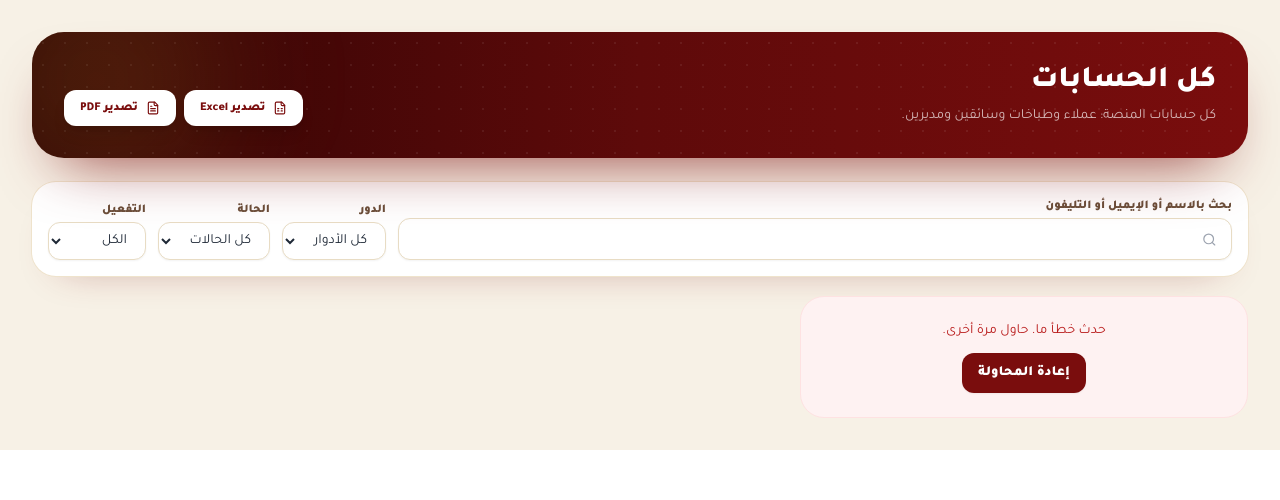
Users Management (provisional /admin/users*) › an offline first load shows a screen error + Retry
expect the text "حدث خطأ ما. حاول مرة أخرى." is shown: met, box [942,324,1106,338]
Step 1. Click the button "إعادة المحاولة" → (1024, 373), box [962,353,1086,393]
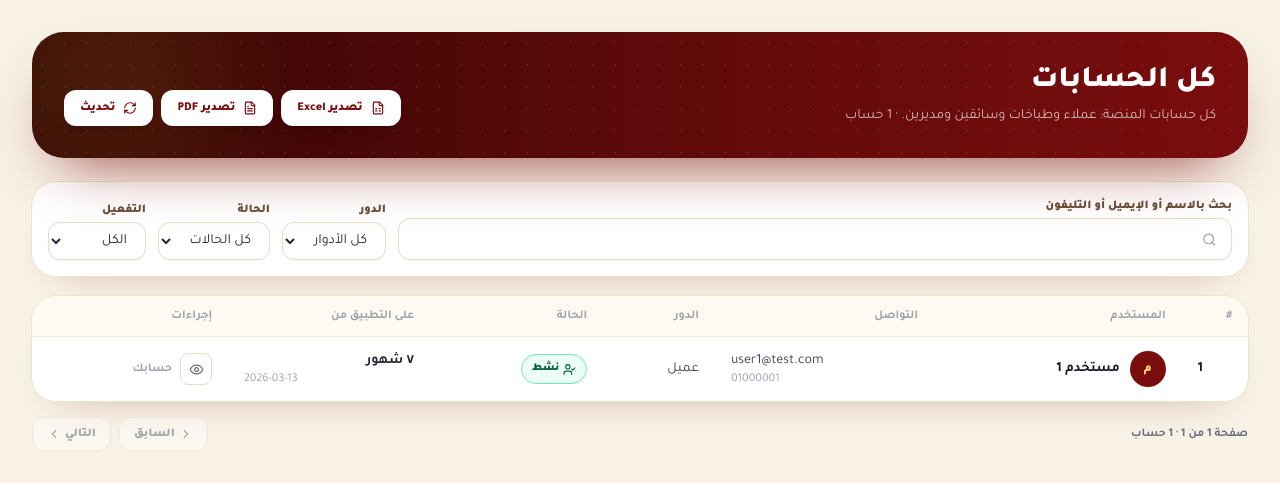
expect the button "م مستخدم 1" is shown: met, box [1057,351,1166,387]
